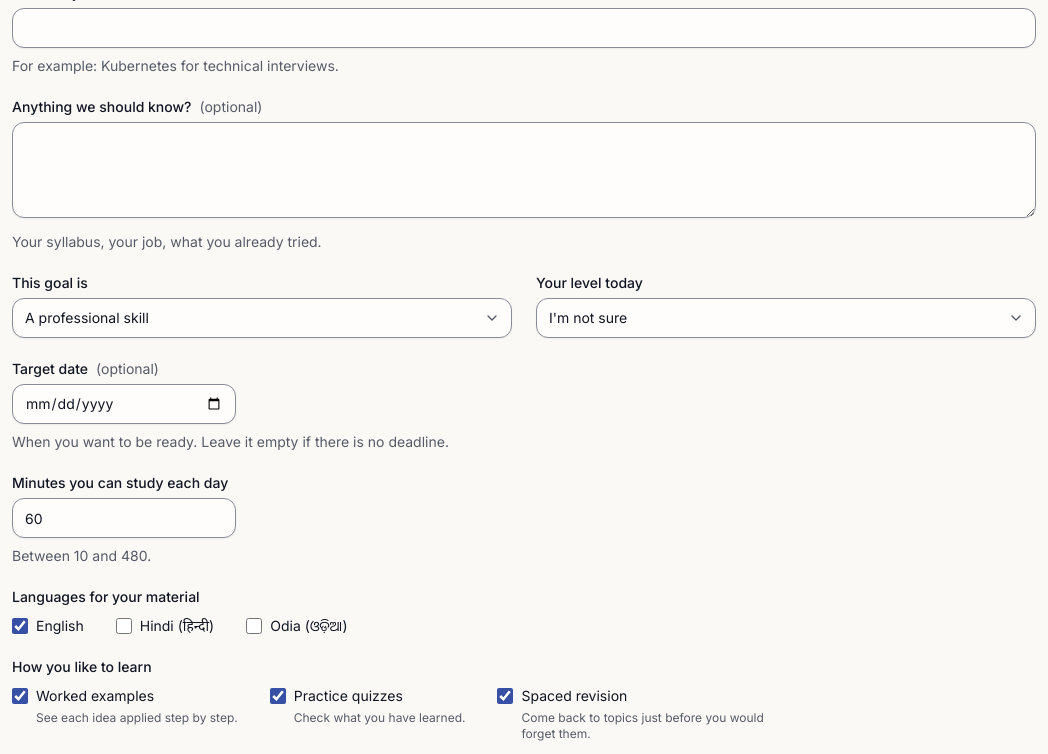
GoalForm › puts each server error next to its field and keeps what was typed
Type "Learn Kubernetes" into the field labelled "What do you want to learn?" at [524, 28], box [12, 8, 1036, 48]
(page scrolled)
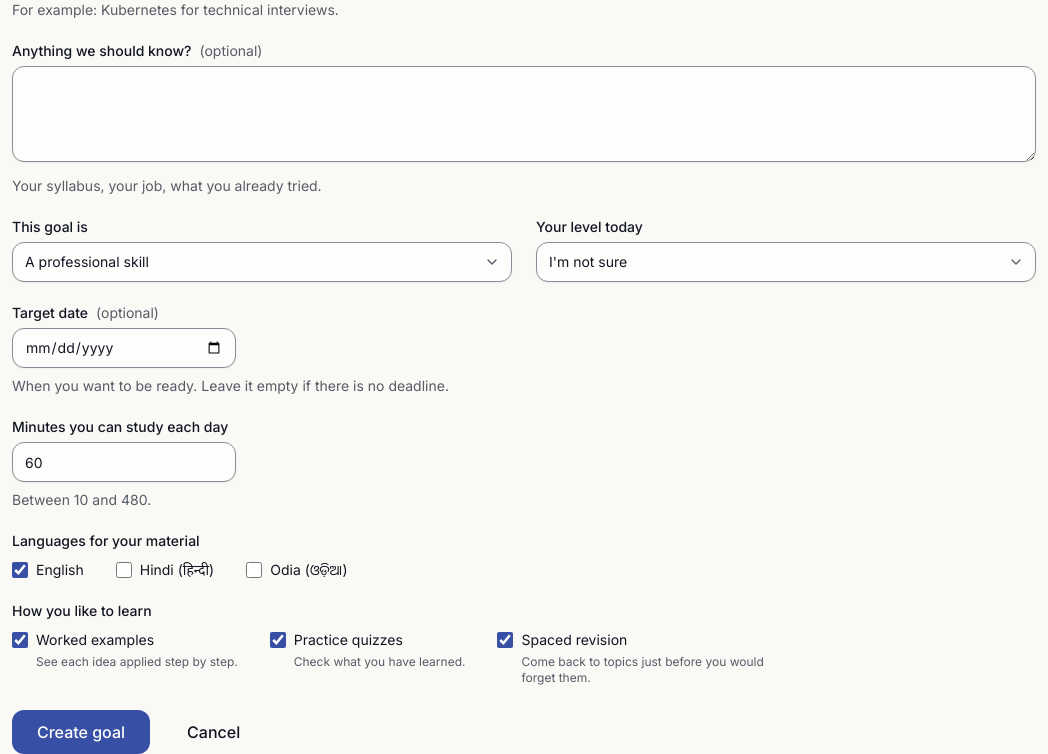
Click the button "Create goal" at [81, 732], box [12, 710, 150, 753]
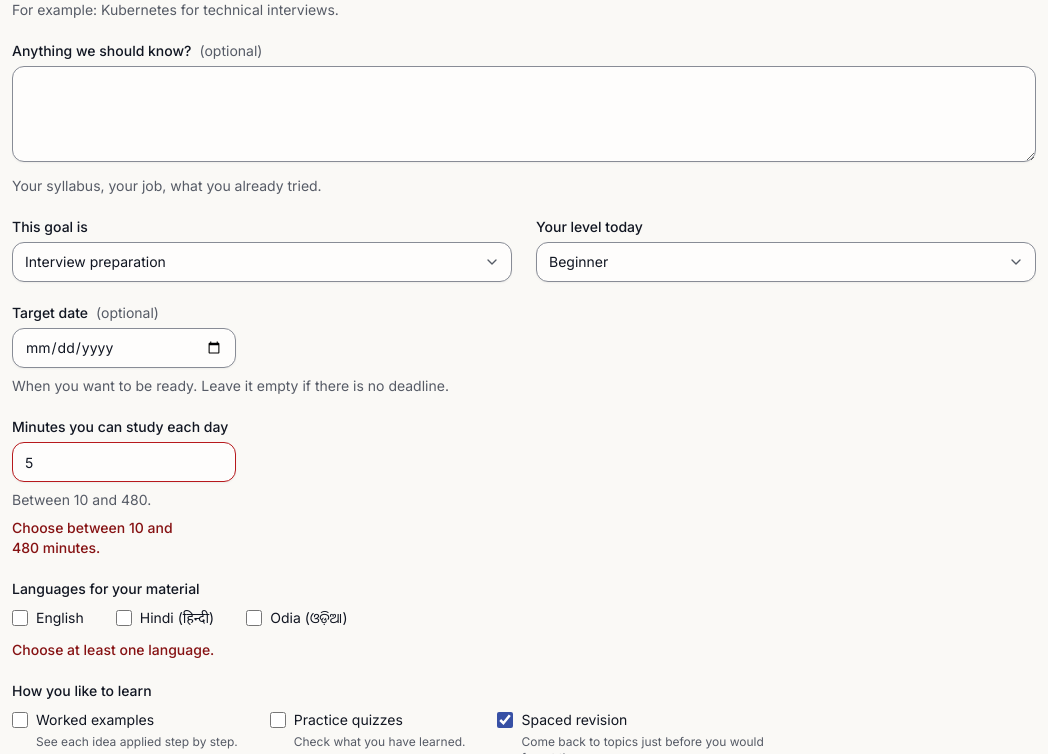
Result: the dropdown labelled "This goal is" shows "Interview preparation" at [12, 242, 512, 282]
Result: the dropdown labelled "Your level today" shows "Beginner" at [536, 242, 1036, 282]
Result: the checkbox labelled "English" is not checked at [12, 610, 28, 626]
